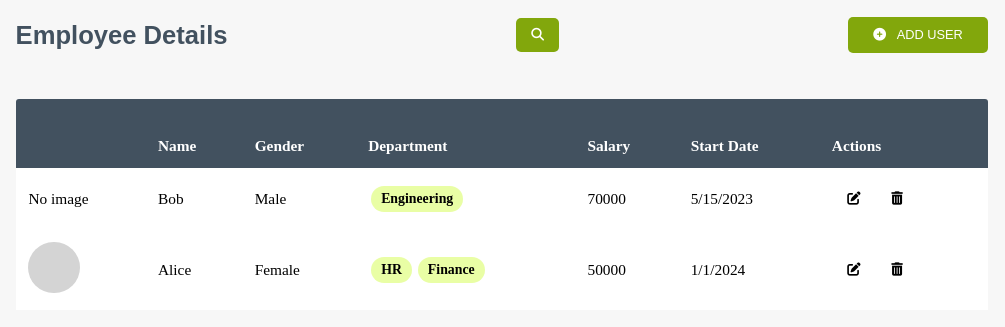
Test: Employee Dashboard Testing › filters employees based on search query
Expected: the text "Alice" is shown, [145, 229, 242, 310]
Expected: the text "Bob" is shown, [145, 168, 242, 229]
Click search button to show the input field
Click the button named "search" at (538, 35), box [516, 18, 559, 52]
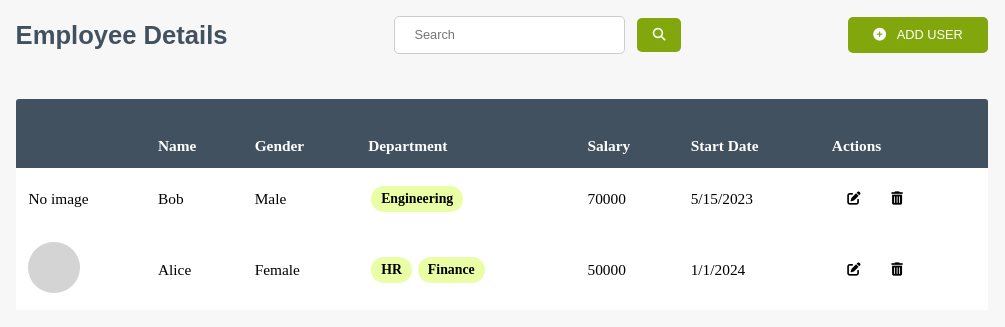
Search for "Alice"
Type "Alice" into the field with placeholder "Search" at (509, 35), box [394, 16, 625, 54]
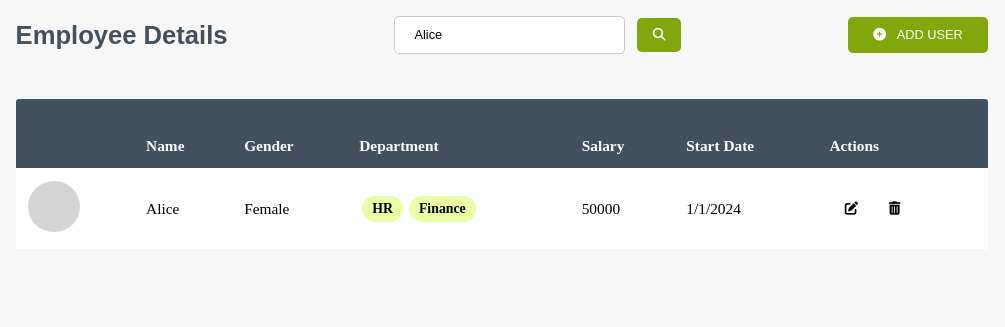
Expected: the text "Alice" is shown, [133, 168, 231, 249]
Expected: the text "Bob" is gone
